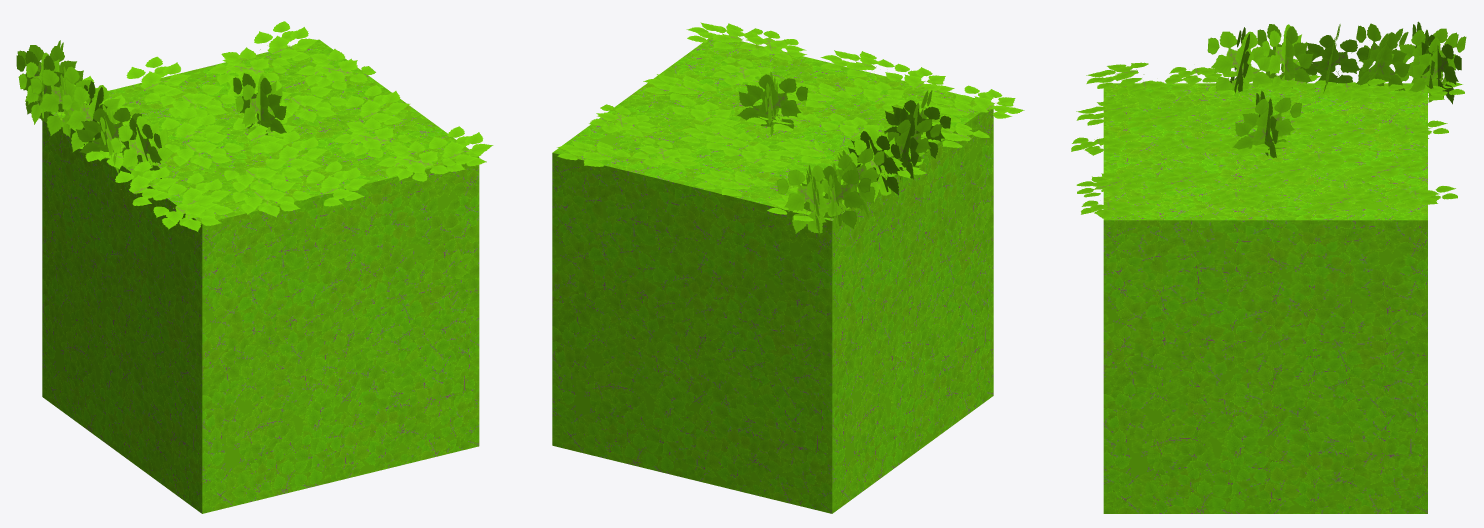
File: bush1.fbx
The picture shows the model from 3 angles, left to right: view 1: azimuth 30°, elevation 25°; view 2: azimuth 150°, elevation 25°; view 3: azimuth 270°, elevation 25°; orthographic projection.
Parts seen in each view (by area): view 1: Cube; view 2: Cube; view 3: Cube.
Part boxes in pixels (x1,y1,x2,y2): Cube: [16, 21, 493, 513]; Cube: [552, 22, 1024, 513]; Cube: [1071, 21, 1466, 513].
Bounding box in the file's own units: 243 × 240 × 248.
